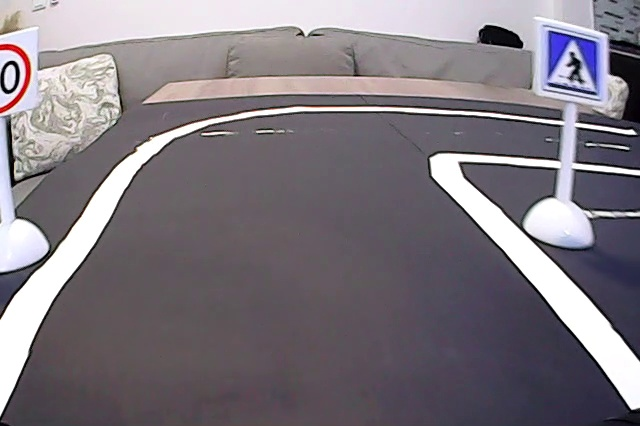pedestrian crossing: (538, 22, 606, 102)
